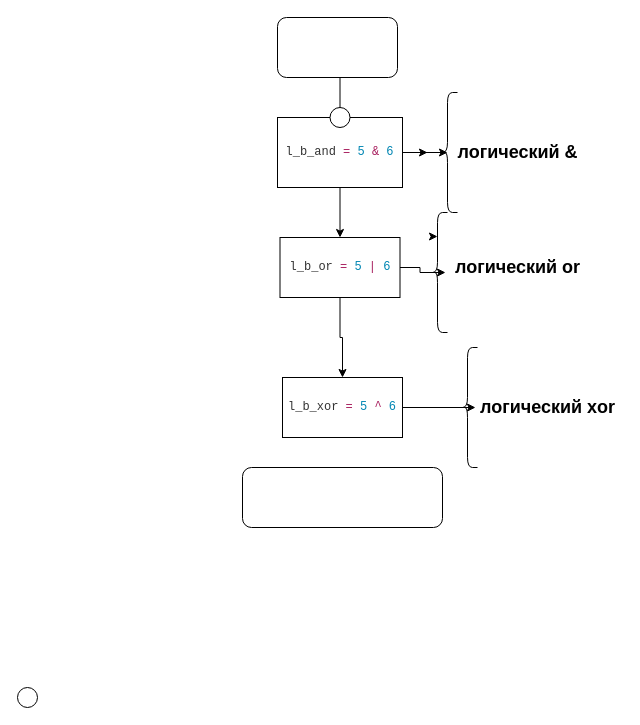
This 640x725 diagram has some shape labels left out. The centre of each missing label's shape, as x and y in pixels:
"конец" goes at (342,497).
"начало" goes at (337,47).
